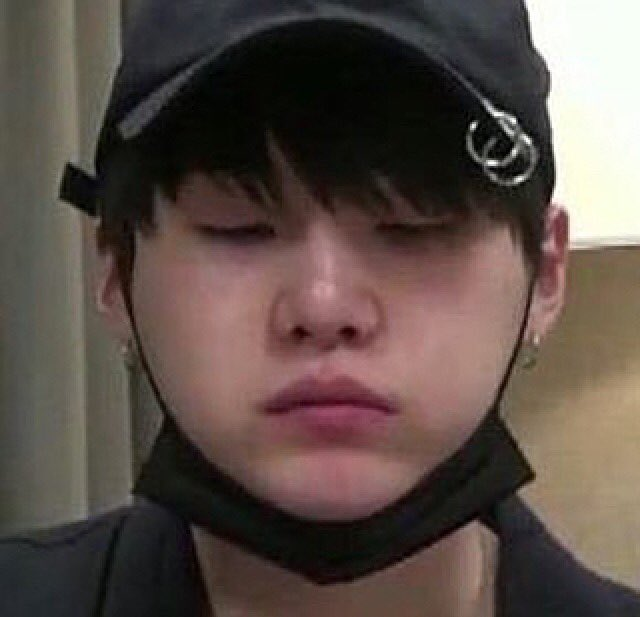mask_weared_incorrect: (161, 205, 513, 557)
